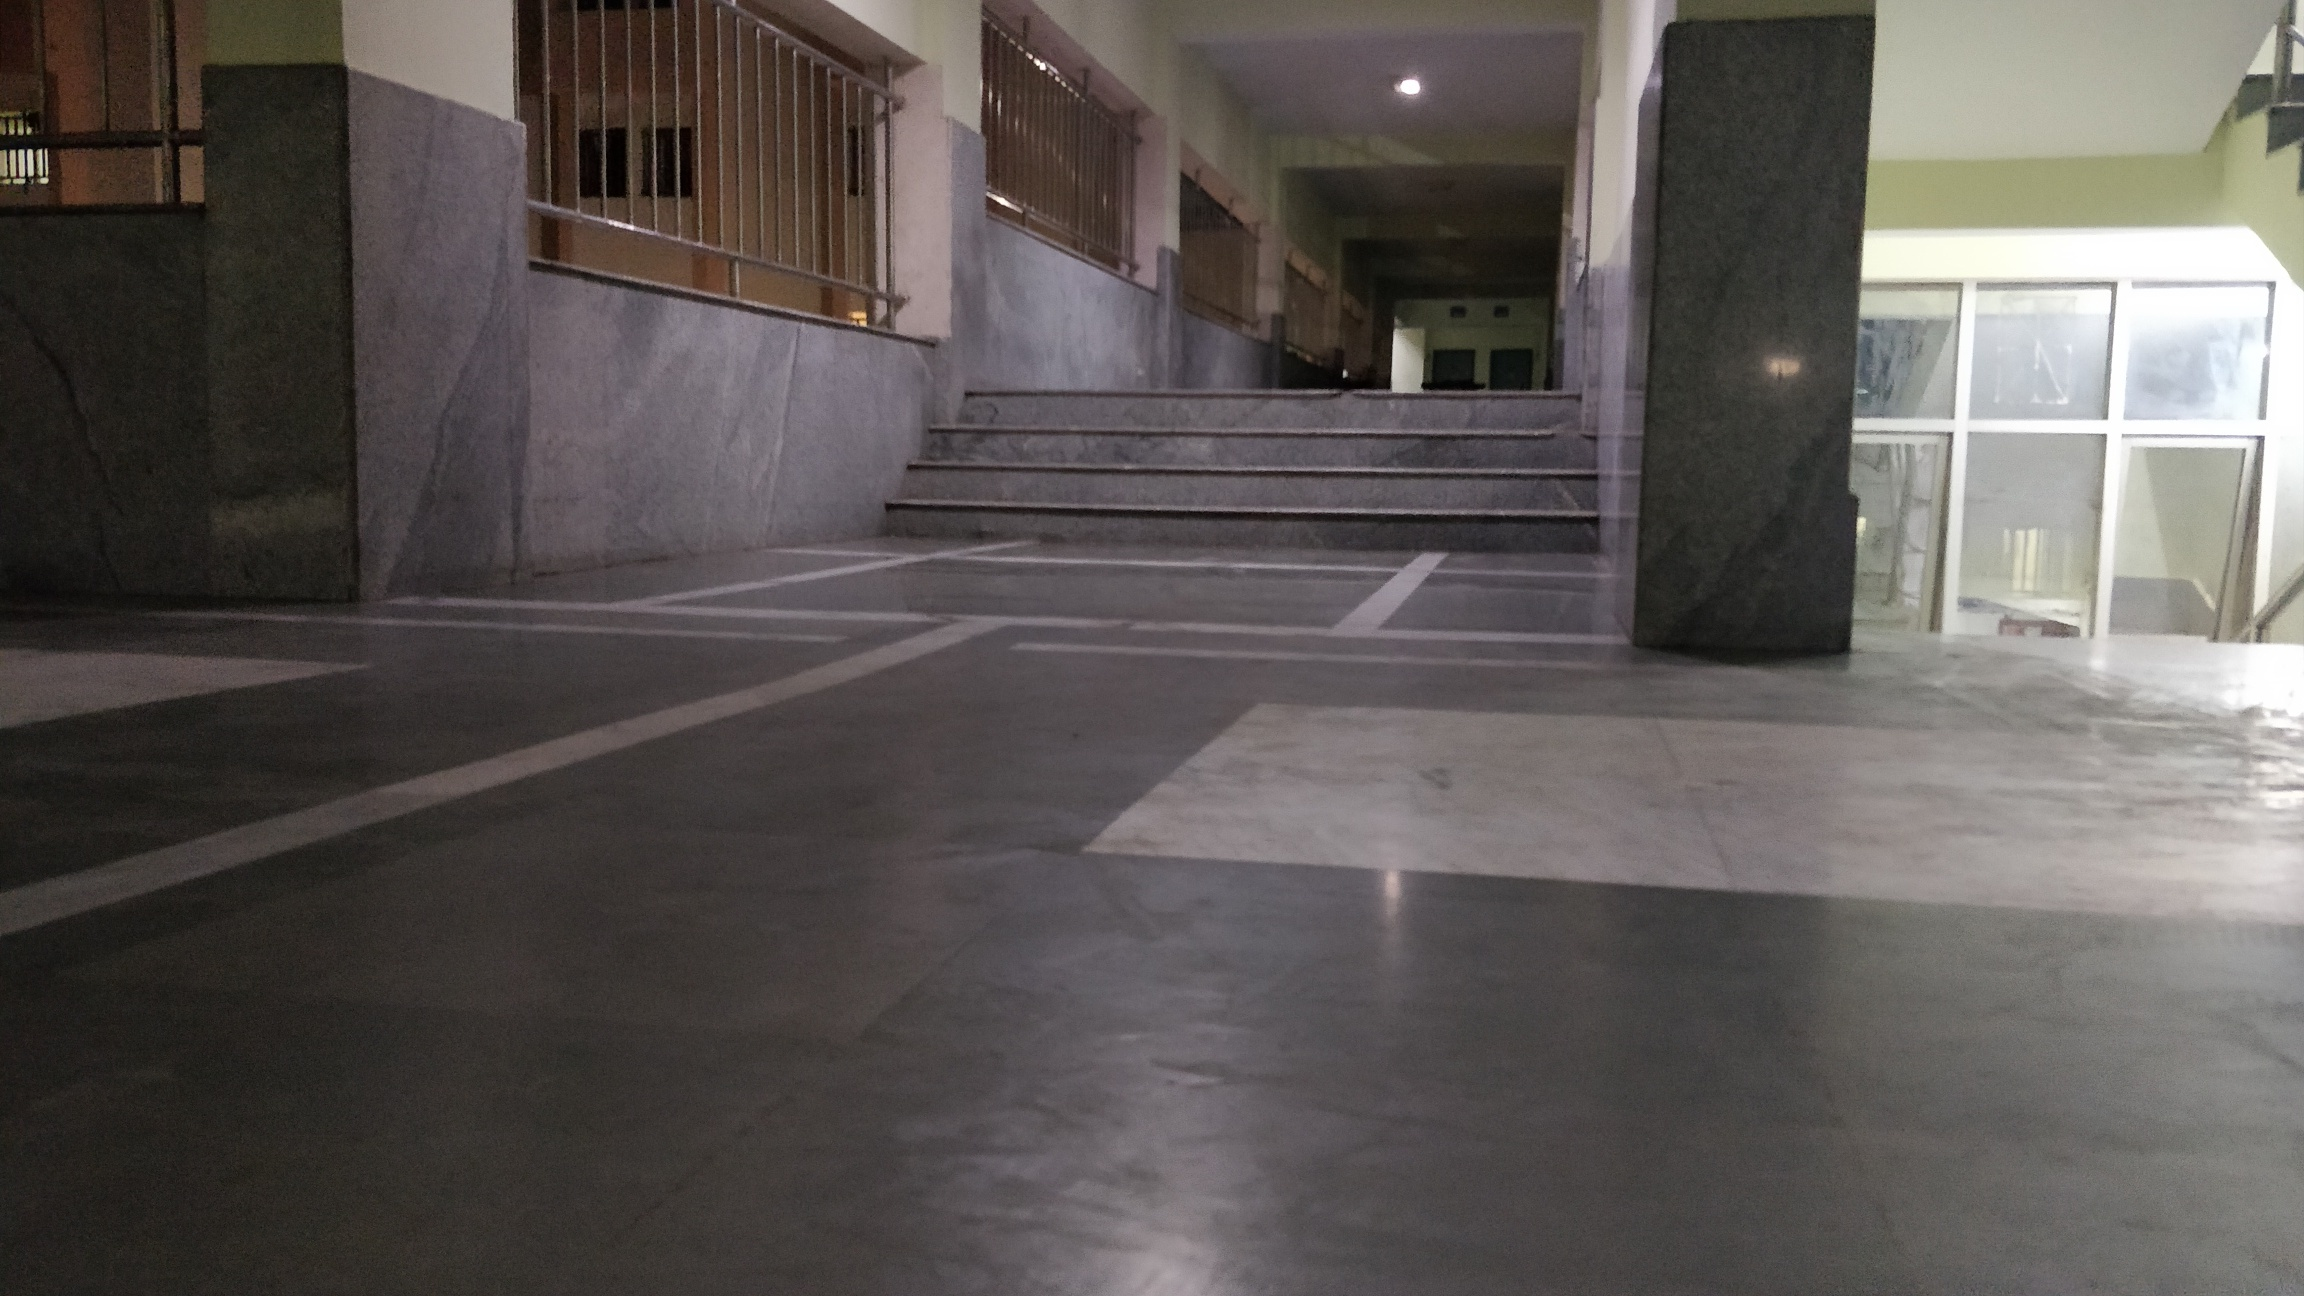stairs_up: (889, 383, 1612, 552)
